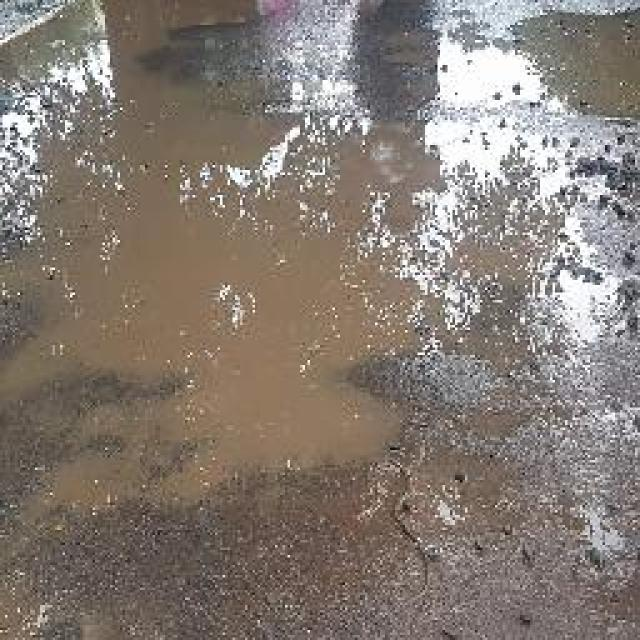stagnation: (0, 102, 472, 530), (500, 0, 639, 141)
